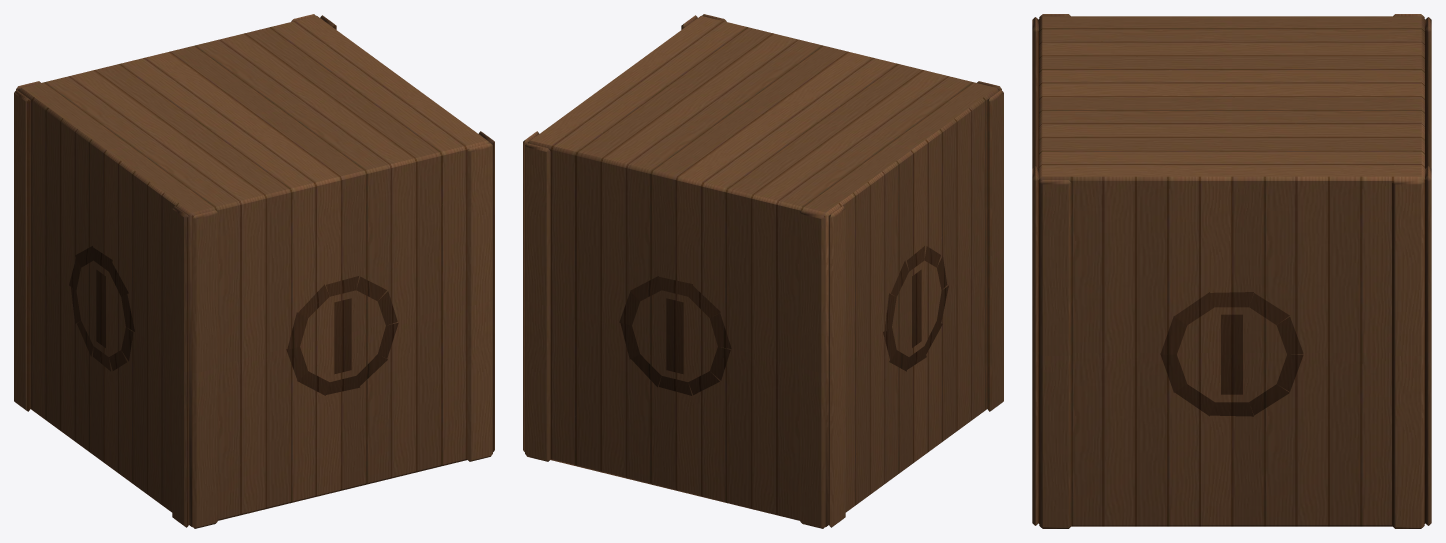
Rendered from crate.glb.
3 renders of one model, left to right at view 1: azimuth 30°, elevation 25°; view 2: azimuth 150°, elevation 25°; view 3: azimuth 270°, elevation 25°, orthographic. The views are drawn at different scales.
Visible parts, largest first — view 1: prop.crate; view 2: prop.crate; view 3: prop.crate.
Part boxes in pixels (box(x1,y1,x2,y2)): prop.crate: box(14, 14, 494, 528); prop.crate: box(523, 14, 1003, 528); prop.crate: box(1032, 14, 1431, 528).
Size of the model in its own units: 0.724 by 0.7 by 0.724.
Materials: 1 (1 with a texture image).
